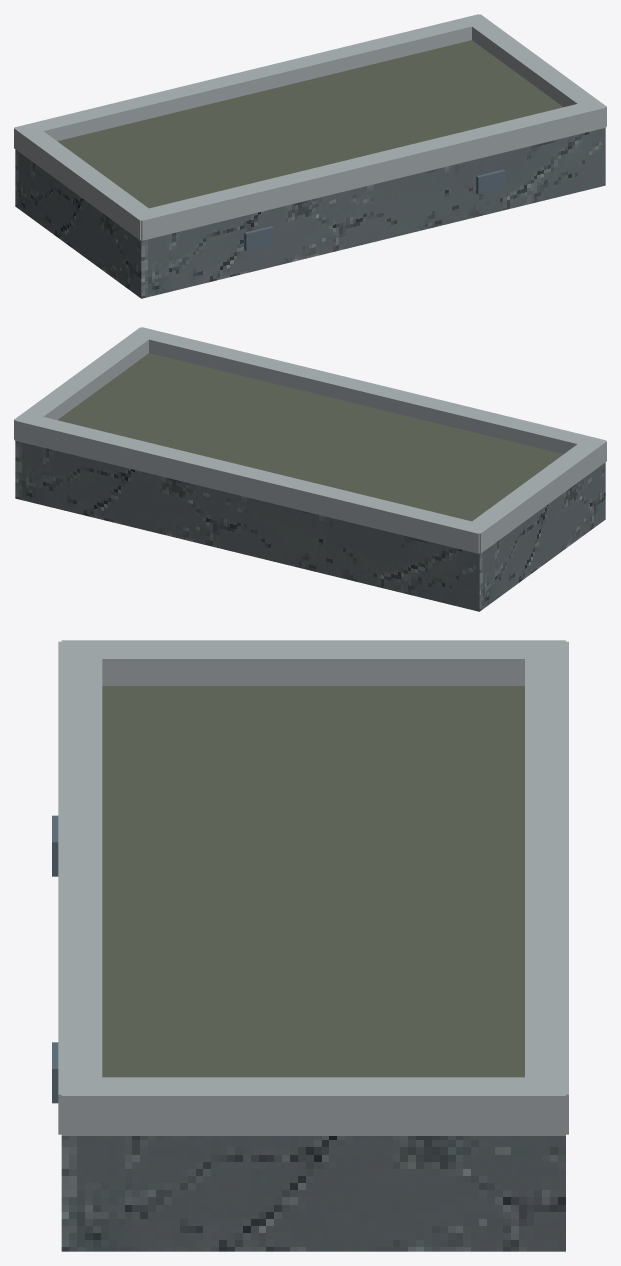
File: planter_long.glb
The picture shows the model from 3 angles, top to bottom: view 1: azimuth 30°, elevation 25°; view 2: azimuth 150°, elevation 25°; view 3: azimuth 270°, elevation 25°; orthographic projection. The views are drawn at different scales.
Parts seen in each view (by area): view 1: planter_long; view 2: planter_long; view 3: planter_long.
Boxes of the visible parts, x1,y1,x2,y2 form: planter_long: (14,14,606,298); planter_long: (14,327,606,611); planter_long: (52,640,568,1251).
Size of the model in its own units: 3.42 by 0.55 by 1.64.
Materials: 4 (1 with a texture image).
